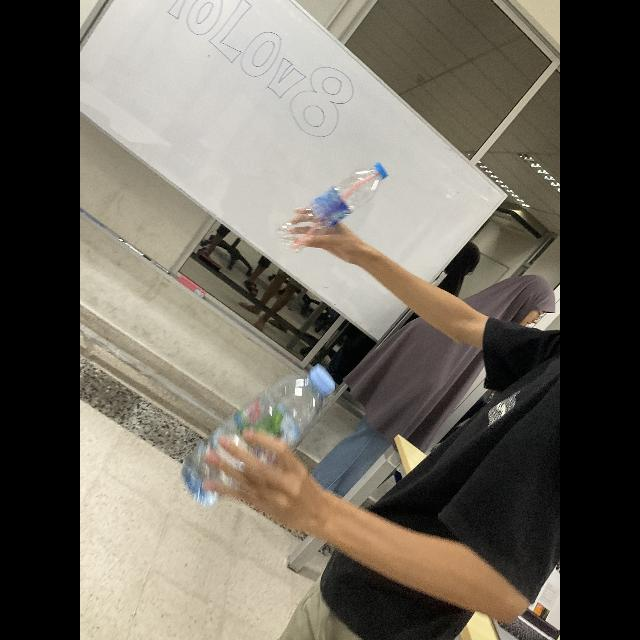plastic_bottle: (183, 364, 337, 508), (279, 161, 386, 251)
